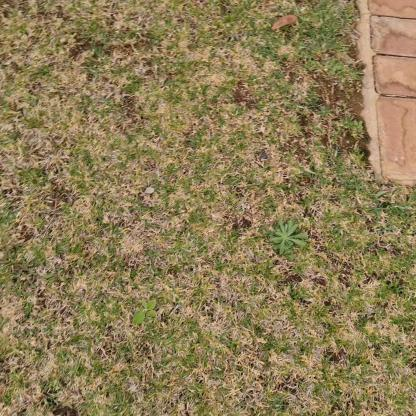Weeds: (269, 218, 309, 256), (133, 299, 158, 326)
